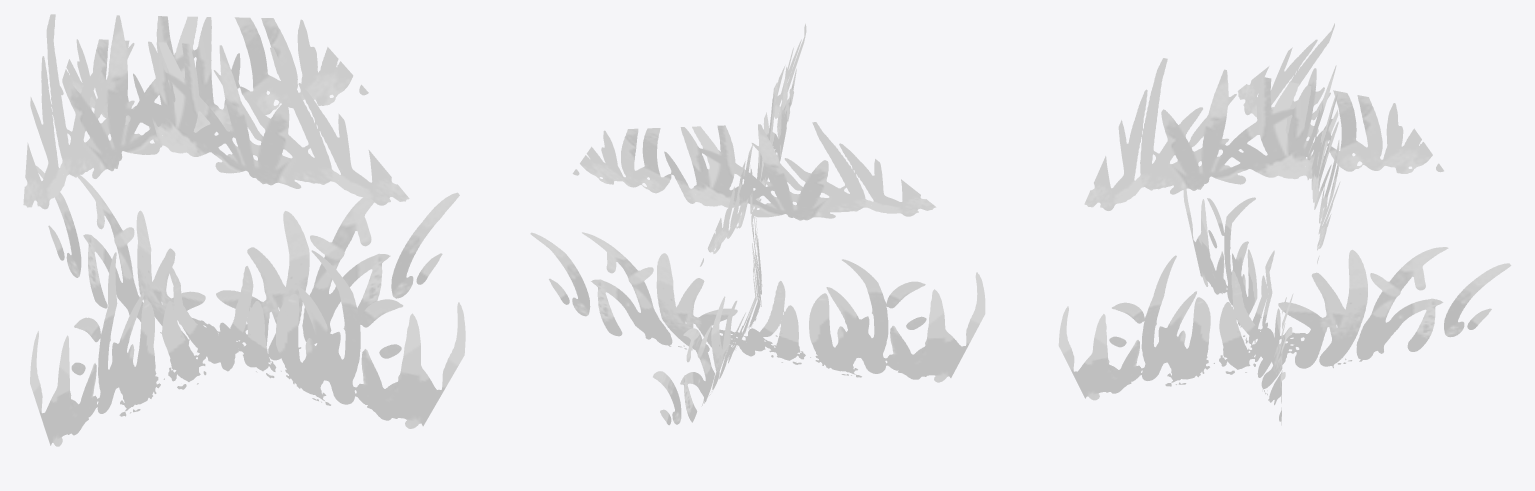
File: GrassMeadows2.fbx
3 renders of one model, left to right at view 1: azimuth 30°, elevation 25°; view 2: azimuth 150°, elevation 25°; view 3: azimuth 270°, elevation 25°, orthographic. The views are drawn at different scales.
Parts seen in each view (by area): view 1: GrassMeadows2; view 2: GrassMeadows2; view 3: GrassMeadows2.
Boxes of the visible parts, x1=… form: GrassMeadows2: x1=23, y1=14, x2=465, y2=446; GrassMeadows2: x1=530, y1=23, x2=985, y2=425; GrassMeadows2: x1=1058, y1=23, x2=1511, y2=425.
Size of the model in its own units: 59.67 by 44.55 by 58.11.
